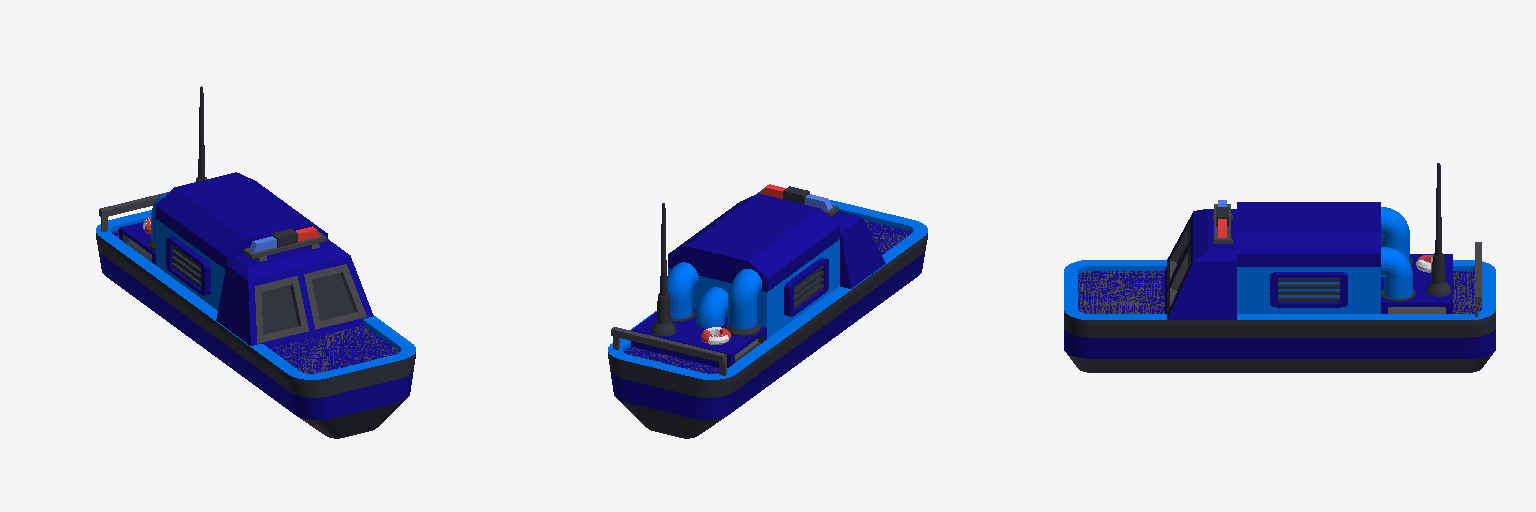
Rendered from Boat9.obj.
3 views of the same model, side by side, from view 1: azimuth 30°, elevation 25°; view 2: azimuth 150°, elevation 25°; view 3: azimuth 270°, elevation 25° (orthographic).
Visible parts, largest first — view 1: hull_halfBack, diesel_cabin_front_basic, diesel_front_basic, rail_back, hull_half, grate_square, detail_sirenDouble, rail, body_vent, detail_fence_support; view 2: diesel_front_basic, hull_halfBack, rail_back, pipe_smallBend, diesel_cabin_front_basic, body_vent, hull_half, grate_square, detail_fence_support, detail_antenna, rail, detail_sirenDouble (+1 smaller); view 3: hull_halfBack, diesel_front_basic, hull_half, diesel_cabin_front_basic, rail_back, grate_square, body_vent, pipe_smallBend, rail, detail_antenna, detail_sirenDouble, pipe_small.
Boxes of the visible parts, x1=… form: hull_halfBack: x1=96, y1=230, x2=415, y2=438; diesel_cabin_front_basic: x1=216, y1=239, x2=373, y2=347; diesel_front_basic: x1=156, y1=172, x2=327, y2=310; rail_back: x1=96, y1=210, x2=415, y2=384; hull_half: x1=158, y1=285, x2=235, y2=370; grate_square: x1=166, y1=237, x2=210, y2=295; detail_sirenDouble: x1=243, y1=226, x2=326, y2=261; rail: x1=157, y1=276, x2=229, y2=336; body_vent: x1=119, y1=222, x2=155, y2=264; detail_fence_support: x1=99, y1=192, x2=168, y2=231; diesel_front_basic: x1=668, y1=193, x2=839, y2=338; hull_halfBack: x1=608, y1=220, x2=927, y2=438; rail_back: x1=608, y1=200, x2=927, y2=384; pipe_smallBend: x1=667, y1=262, x2=761, y2=327; diesel_cabin_front_basic: x1=830, y1=211, x2=885, y2=288; body_vent: x1=631, y1=310, x2=766, y2=367; hull_half: x1=788, y1=285, x2=865, y2=370; grate_square: x1=784, y1=258, x2=828, y2=316; detail_fence_support: x1=611, y1=327, x2=726, y2=375; detail_antenna: x1=651, y1=203, x2=676, y2=335; rail: x1=782, y1=279, x2=866, y2=336; detail_sirenDouble: x1=757, y1=184, x2=838, y2=216; hull_halfBack: x1=1064, y1=271, x2=1495, y2=372; diesel_front_basic: x1=1237, y1=202, x2=1380, y2=313; hull_half: x1=1208, y1=326, x2=1351, y2=372; diesel_cabin_front_basic: x1=1165, y1=209, x2=1236, y2=319; rail_back: x1=1064, y1=260, x2=1495, y2=325; grate_square: x1=1270, y1=272, x2=1347, y2=307; body_vent: x1=1381, y1=254, x2=1452, y2=313; pipe_smallBend: x1=1381, y1=207, x2=1412, y2=283; rail: x1=1208, y1=314, x2=1351, y2=325; detail_antenna: x1=1426, y1=163, x2=1451, y2=296; detail_sirenDouble: x1=1212, y1=200, x2=1232, y2=243; pipe_small: x1=1381, y1=276, x2=1415, y2=301.
Bounding box in the file's own units: 1 × 1.6 × 3.